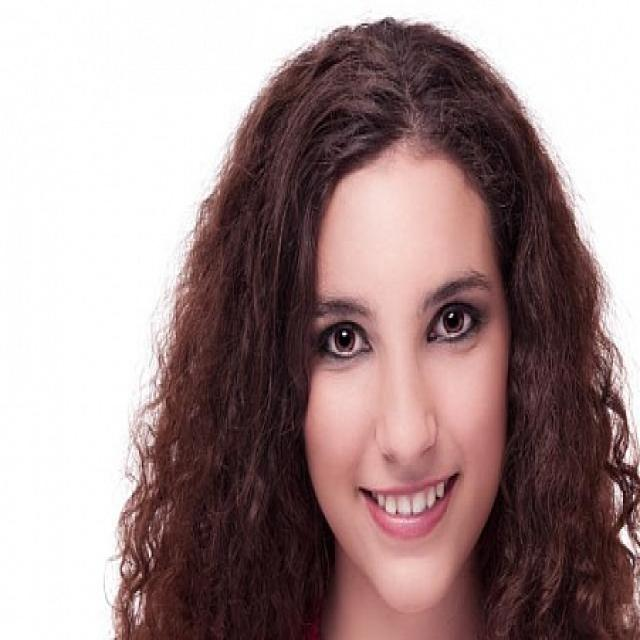Eyes: (302, 279, 497, 375)
